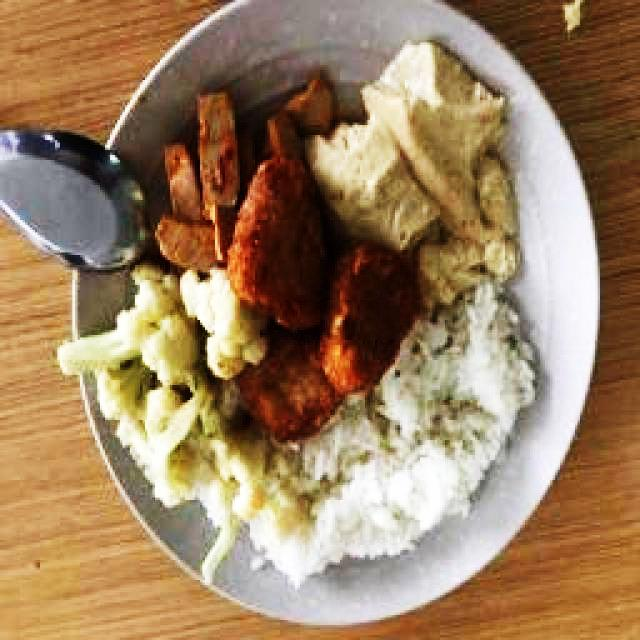chicken_nuggets: (237, 155, 326, 332), (320, 244, 408, 392), (245, 332, 339, 440)
rice: (282, 442, 470, 554), (412, 289, 537, 439), (351, 394, 516, 457)
